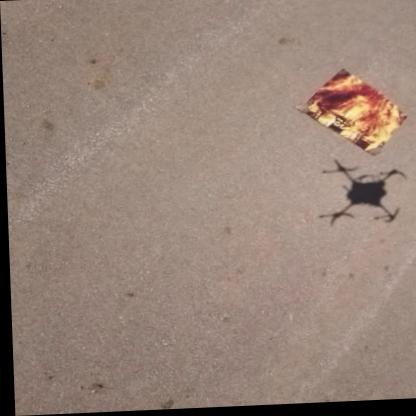fire-poster: (291, 68, 410, 162)
